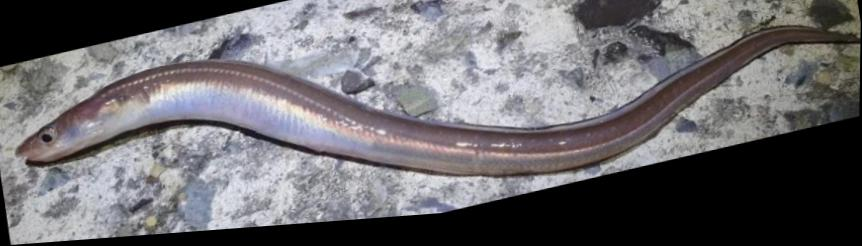fish: (16, 37, 861, 182)
